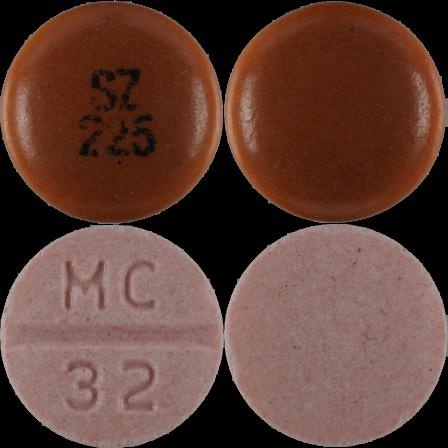0781-5916: (0, 0, 224, 224)
